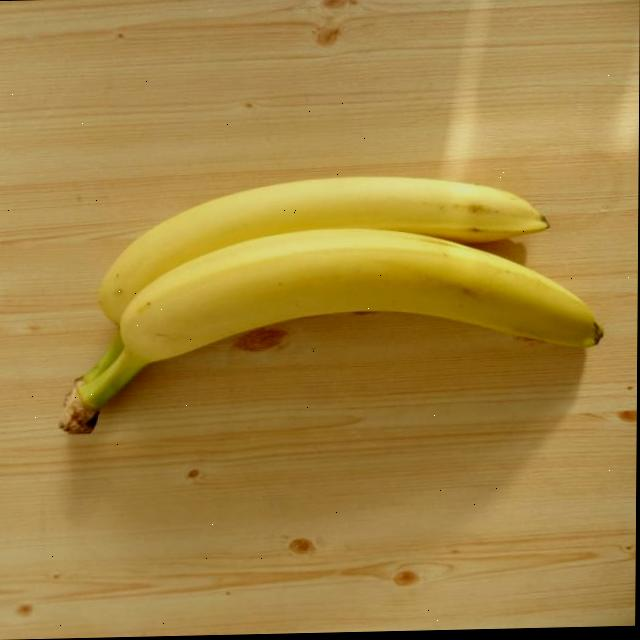banana: (51, 165, 610, 441)
